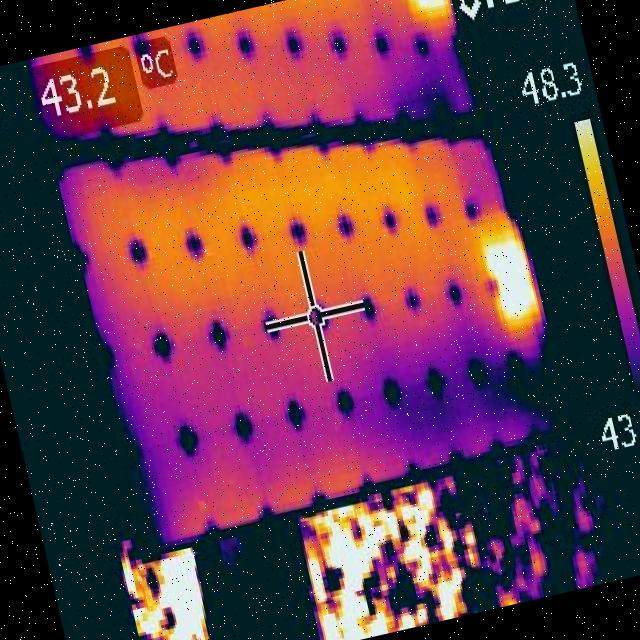Hotspot: (468, 209, 558, 349), (399, 0, 462, 43)
